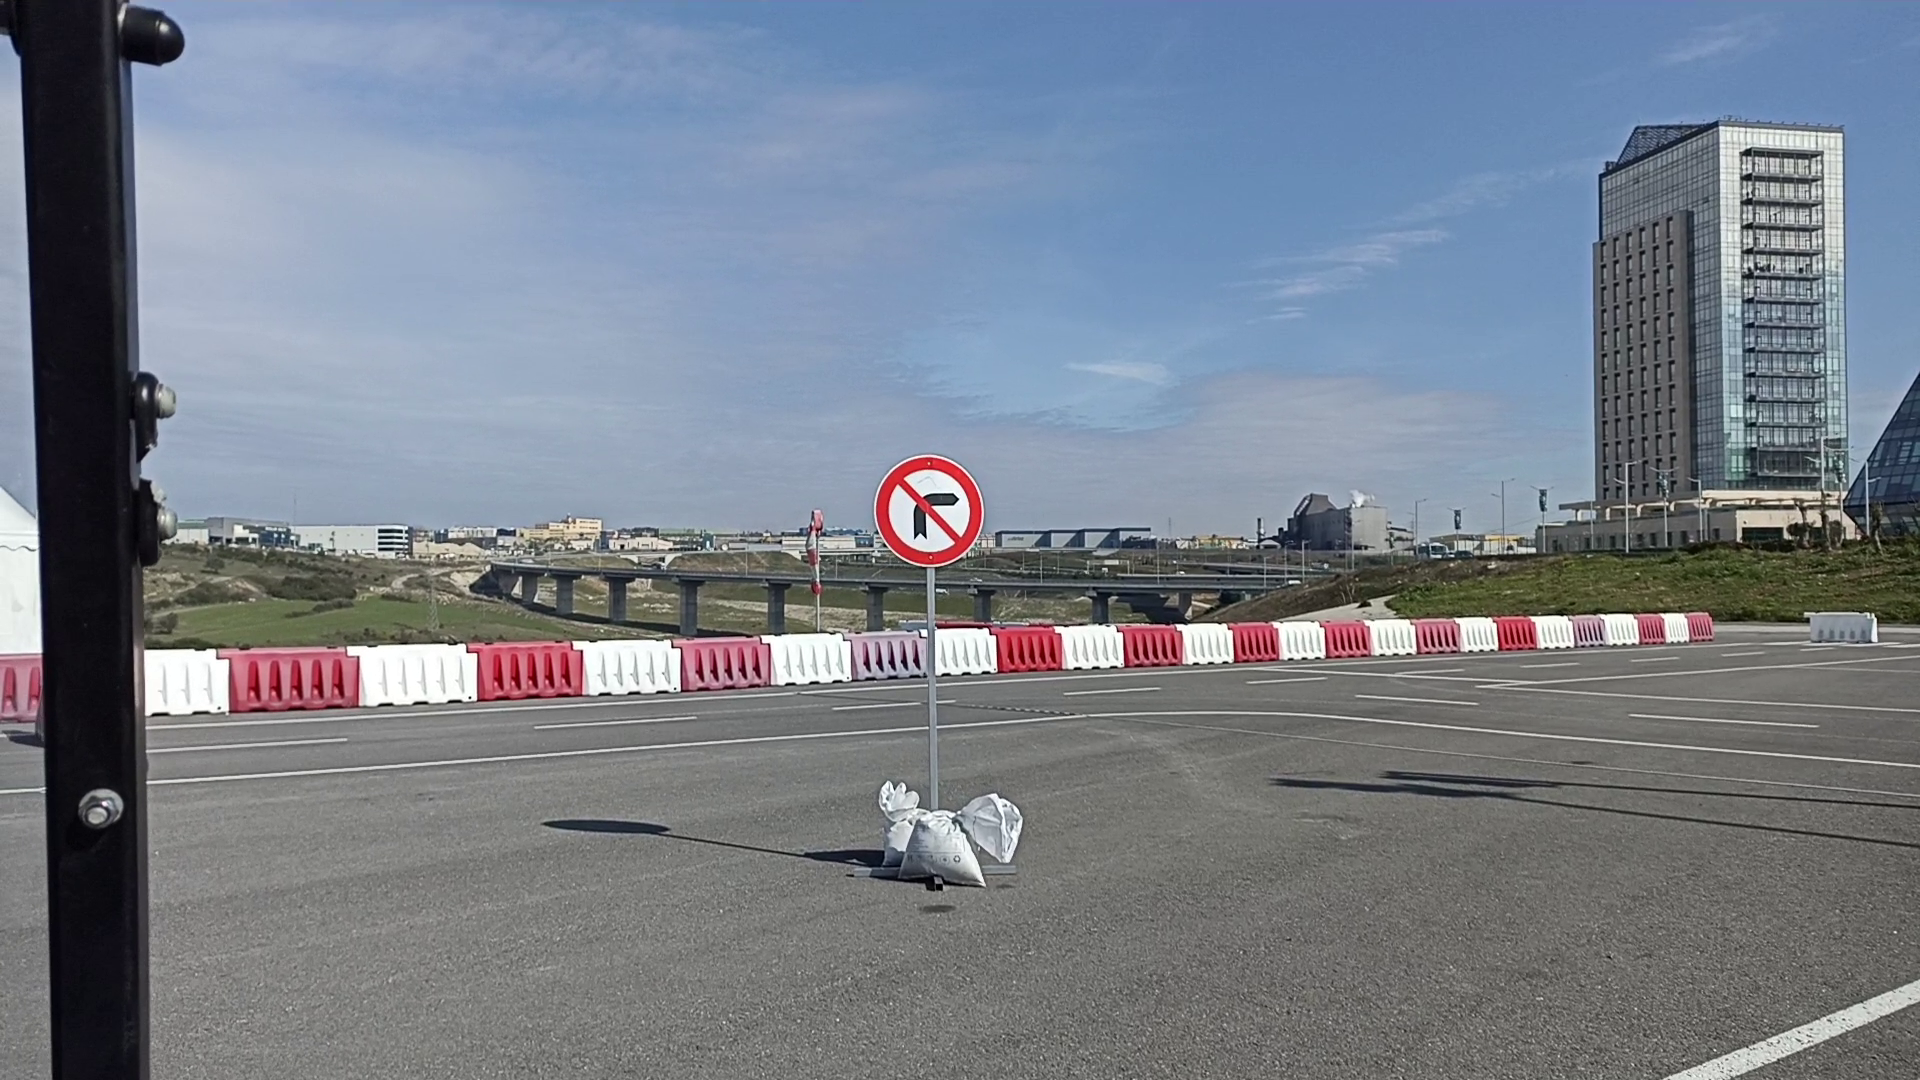noleftturn: (872, 454, 986, 568)
